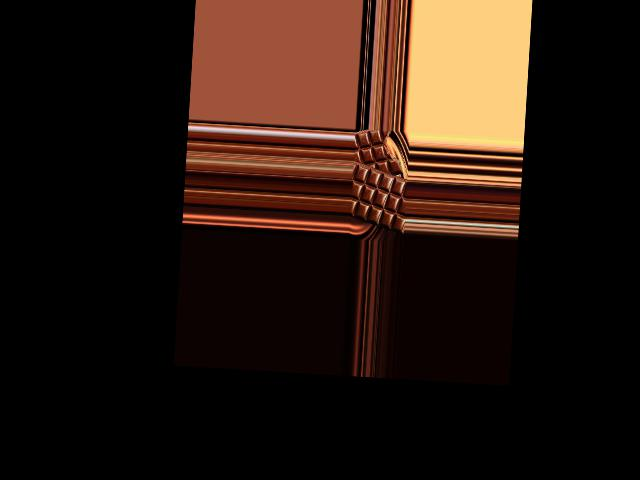chocolate: (348, 160, 407, 235)
